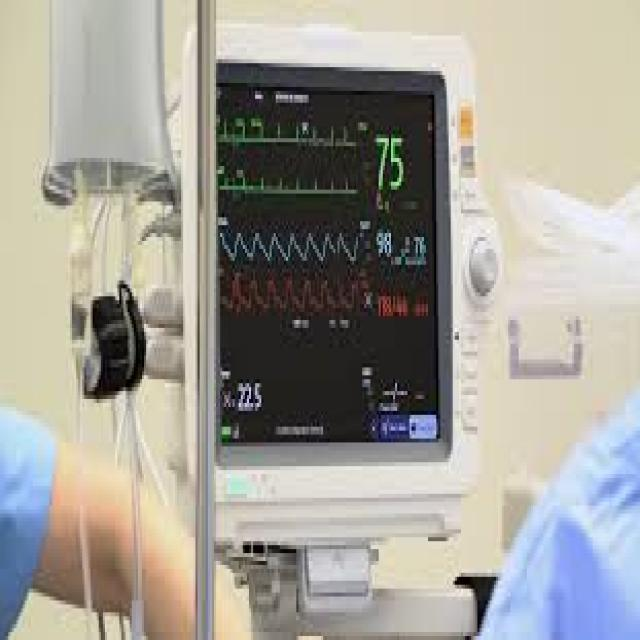cardiac_monitor: (187, 30, 490, 510)
